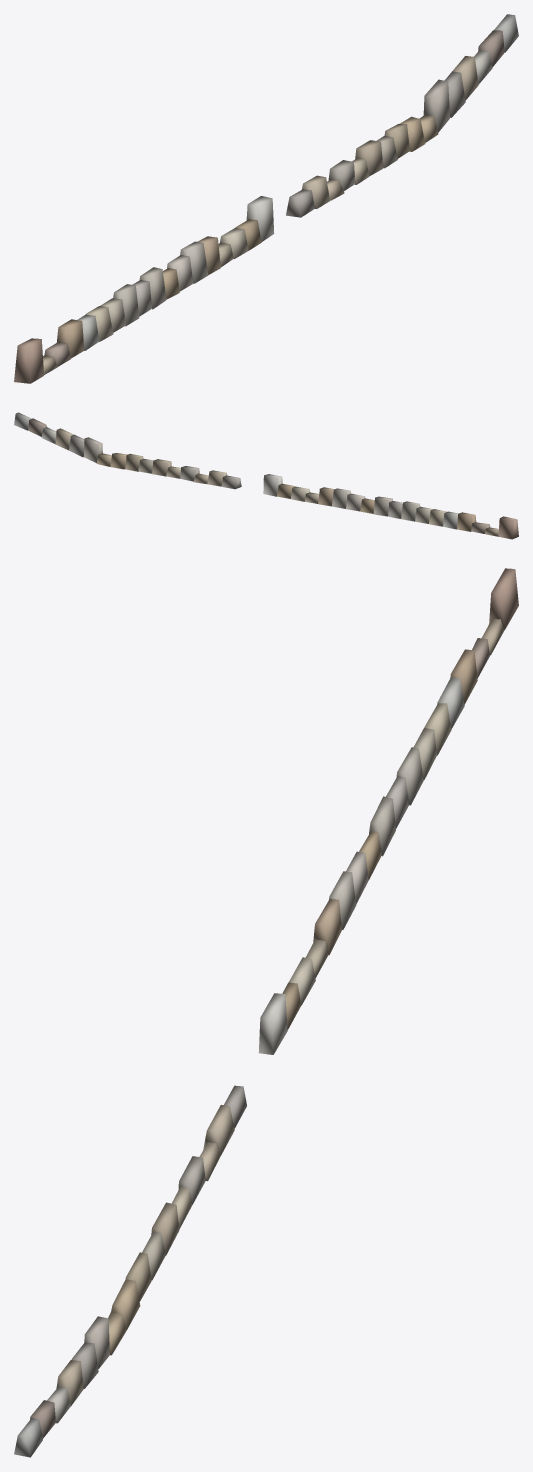
File: farm_3_19_far.glb
3 renders of one model, top to bottom at view 1: azimuth 90°, elevation 25°; view 2: azimuth 150°, elevation 25°; view 3: azimuth 270°, elevation 25°, orthographic. The views are drawn at different scales.
Parts seen in each view (by area): view 1: geometry_0; view 2: geometry_0; view 3: geometry_0.
Boxes of the visible parts, bbox=[...] form: geometry_0: bbox=[14, 14, 518, 383]; geometry_0: bbox=[14, 412, 518, 539]; geometry_0: bbox=[14, 568, 518, 1457].
Size of the model in its own units: 53.5 by 11.97 by 18.96.
